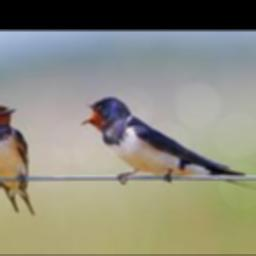Swallow: (77, 96, 256, 194), (0, 102, 33, 215)
